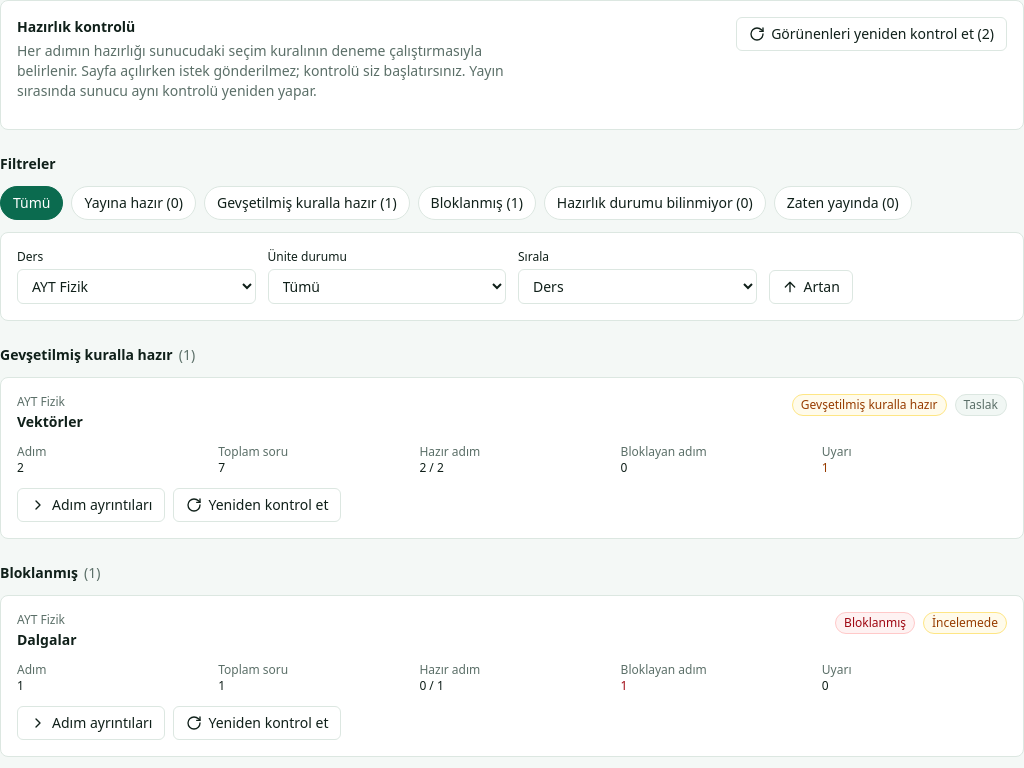
PublishingCenter readiness › re-checks every visible unit with fresh data on request
Click the button "Görünenleri yeniden kontrol et (2)" at (872, 34), box x1=736 y1=17 x2=1007 y2=51
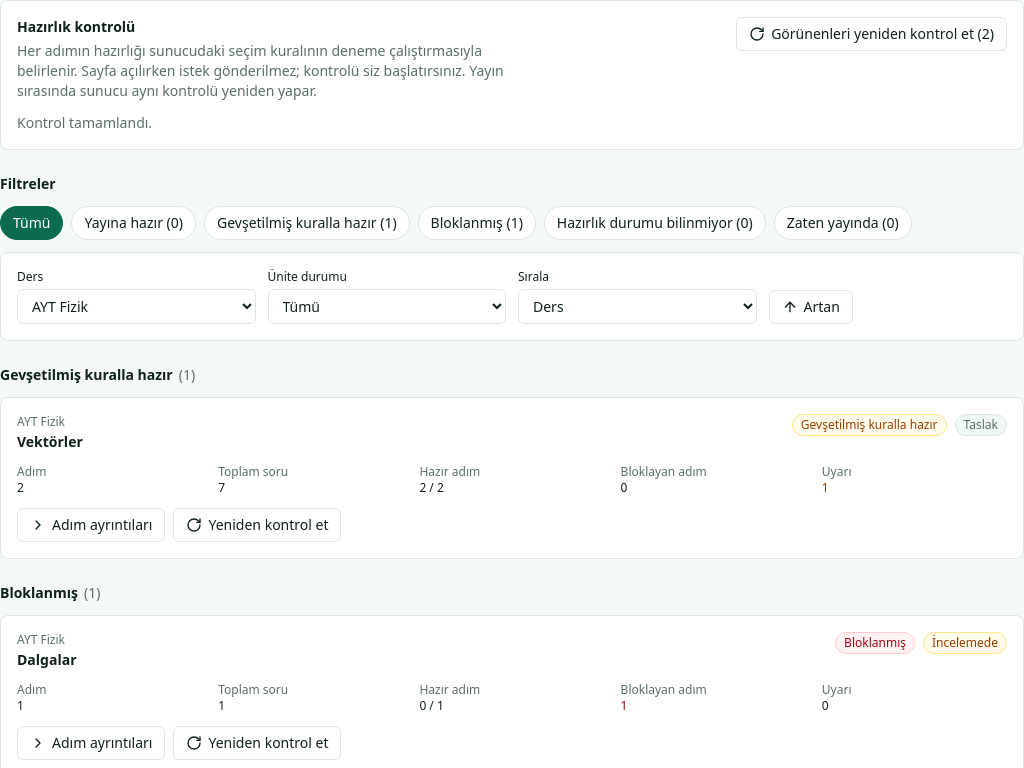
Result: the text "Kontrol tamamlandı." is shown at x1=17 y1=113 x2=152 y2=132
